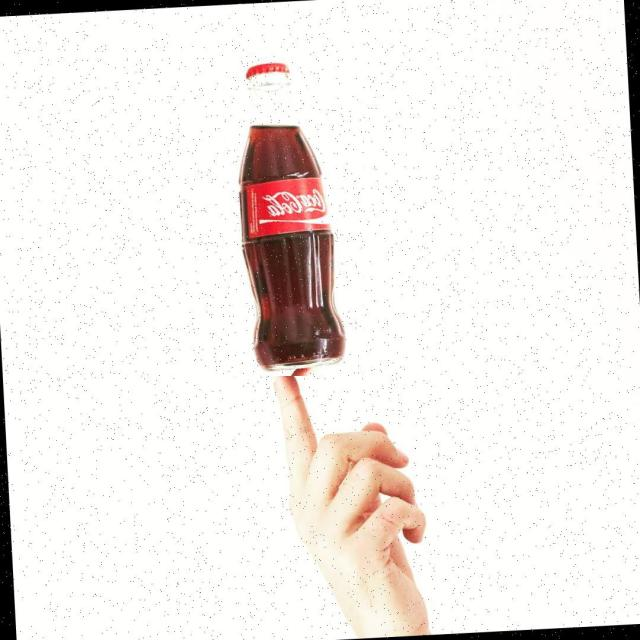coca-cola: (223, 57, 362, 376)
